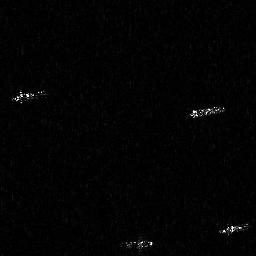ship: (10, 88, 49, 105), (188, 103, 226, 120), (120, 234, 154, 253), (216, 221, 251, 239)
